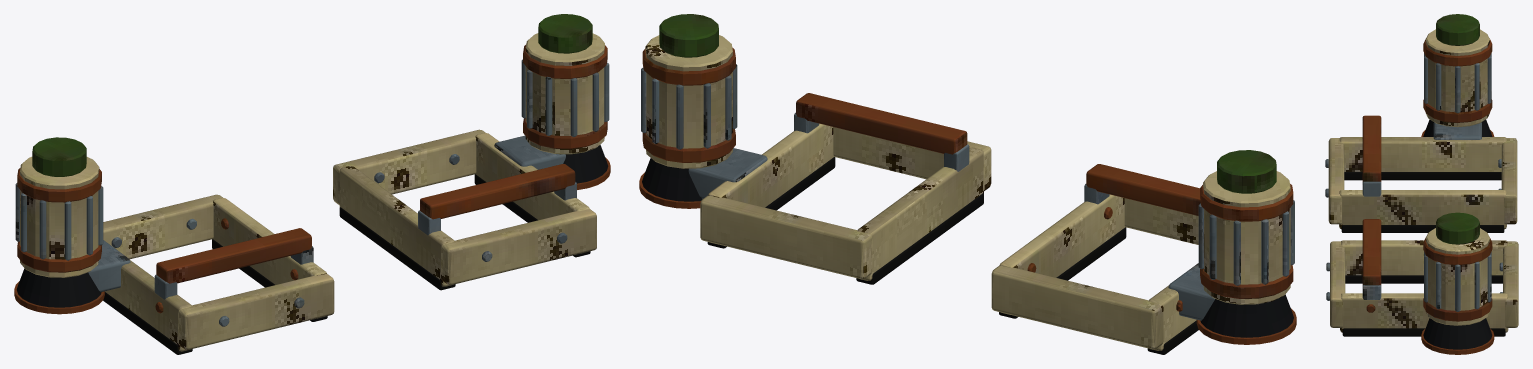
The model's file is jet-boots.glb.
The picture shows the model from 3 angles, left to right: view 1: azimuth 30°, elevation 25°; view 2: azimuth 150°, elevation 25°; view 3: azimuth 270°, elevation 25°; orthographic projection. The views are drawn at different scales.
Parts seen in each view (by area): view 1: Mesh__RightFoot, Mesh__LeftFoot; view 2: Mesh__RightFoot, Mesh__LeftFoot; view 3: Mesh__LeftFoot, Mesh__RightFoot.
Part boxes in pixels (<box>): Mesh__RightFoot: <box>333,14,610,290</box>; Mesh__LeftFoot: <box>14,137,334,354</box>; Mesh__RightFoot: <box>639,14,991,284</box>; Mesh__LeftFoot: <box>991,150,1296,354</box>; Mesh__LeftFoot: <box>1325,14,1517,232</box>; Mesh__RightFoot: <box>1326,212,1518,354</box>.
Size of the model in its own units: 1.01 by 0.275 by 0.3601.
Materials: 6 (6 with a texture image).
